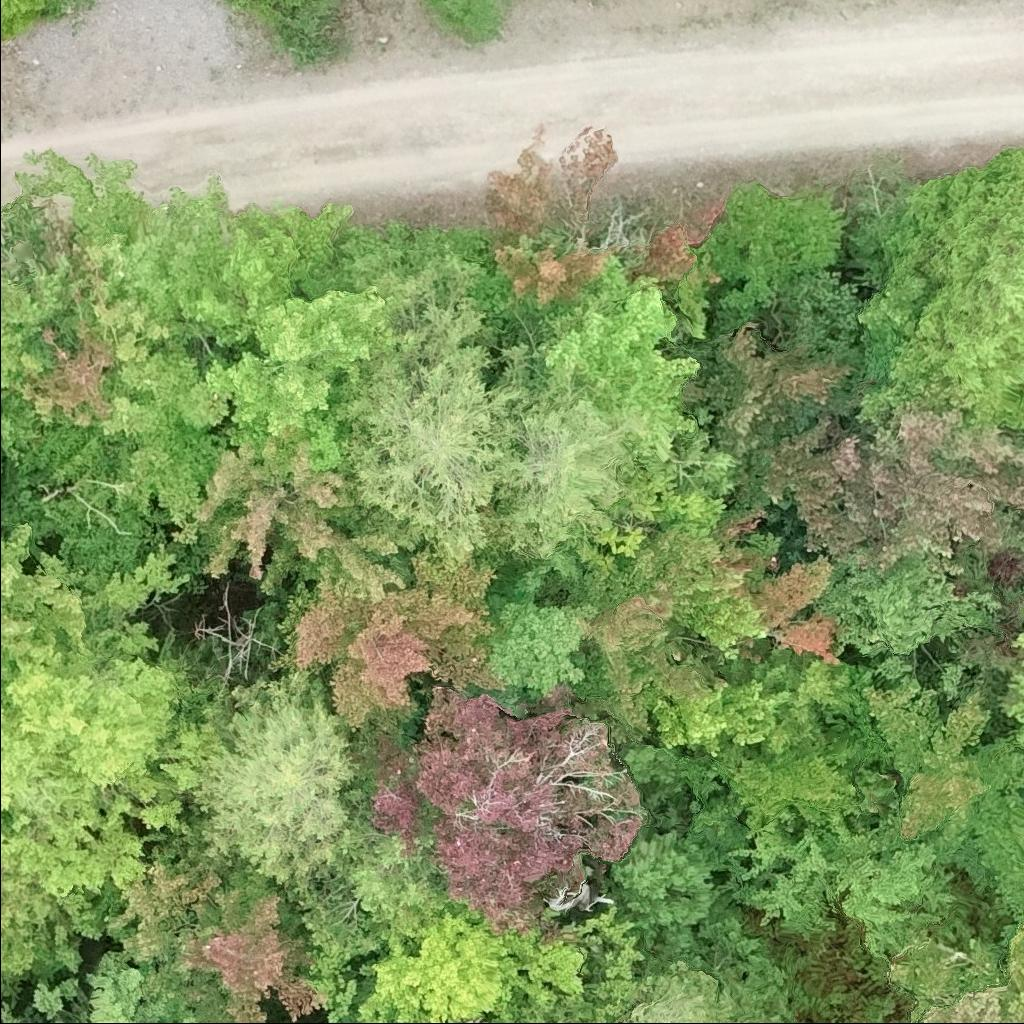crown: (0, 542, 232, 900), (361, 681, 642, 932), (334, 253, 528, 571), (571, 508, 841, 735), (265, 543, 509, 748), (738, 401, 1023, 572), (859, 143, 1023, 434), (492, 243, 701, 461), (189, 666, 379, 888), (492, 338, 648, 559), (858, 661, 1023, 862), (148, 861, 327, 1023), (350, 902, 586, 1023), (570, 428, 740, 572), (193, 425, 345, 578), (107, 336, 234, 518), (261, 467, 423, 603), (696, 182, 852, 321), (210, 354, 354, 477), (889, 903, 1023, 1023), (105, 853, 234, 971), (256, 282, 399, 388), (27, 945, 218, 1023), (0, 522, 85, 683), (604, 826, 720, 935), (646, 674, 796, 757), (616, 959, 736, 1023), (0, 871, 55, 991), (124, 793, 204, 865), (915, 986, 1021, 1023), (998, 629, 1023, 747), (0, 0, 44, 41)
